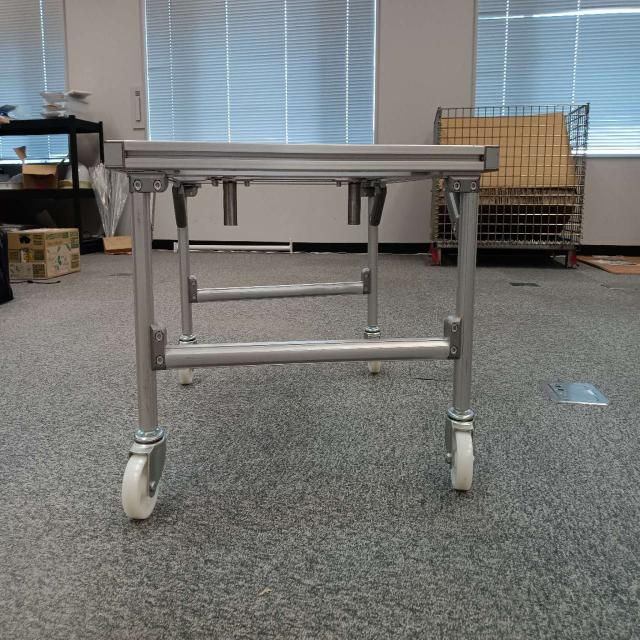box: (10, 219, 82, 280)
side: (130, 136, 472, 370)
